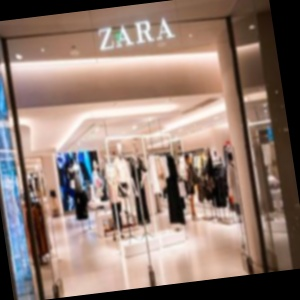zara: (118, 1, 237, 31)
